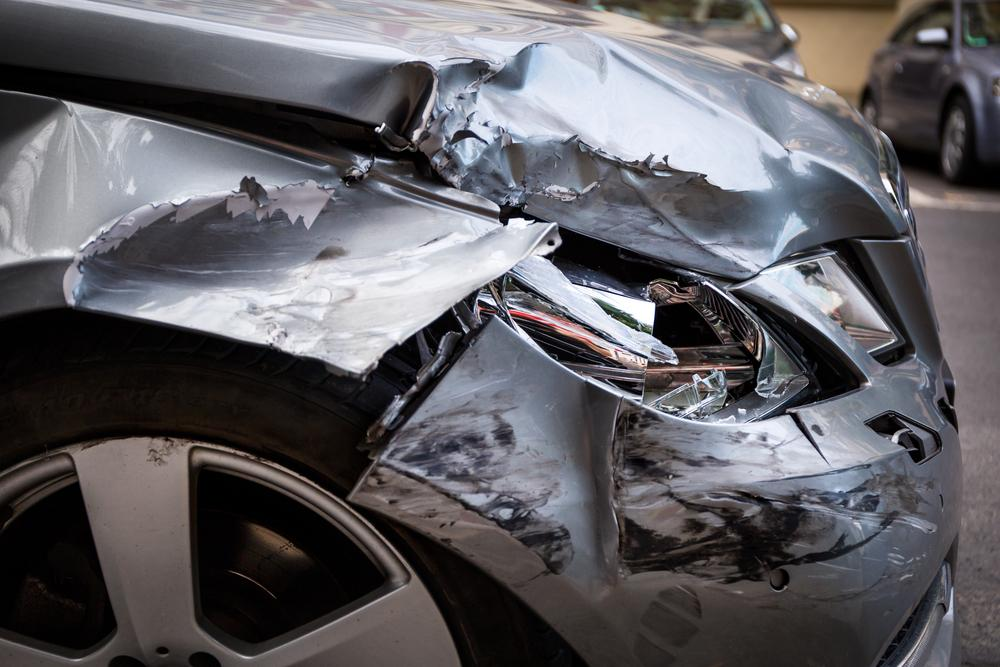crack: (786, 405, 836, 470)
dent: (312, 43, 898, 277), (69, 182, 547, 375), (550, 360, 620, 604)
lamp broken: (497, 229, 822, 426)
scratch: (611, 399, 952, 613), (349, 317, 576, 592)
